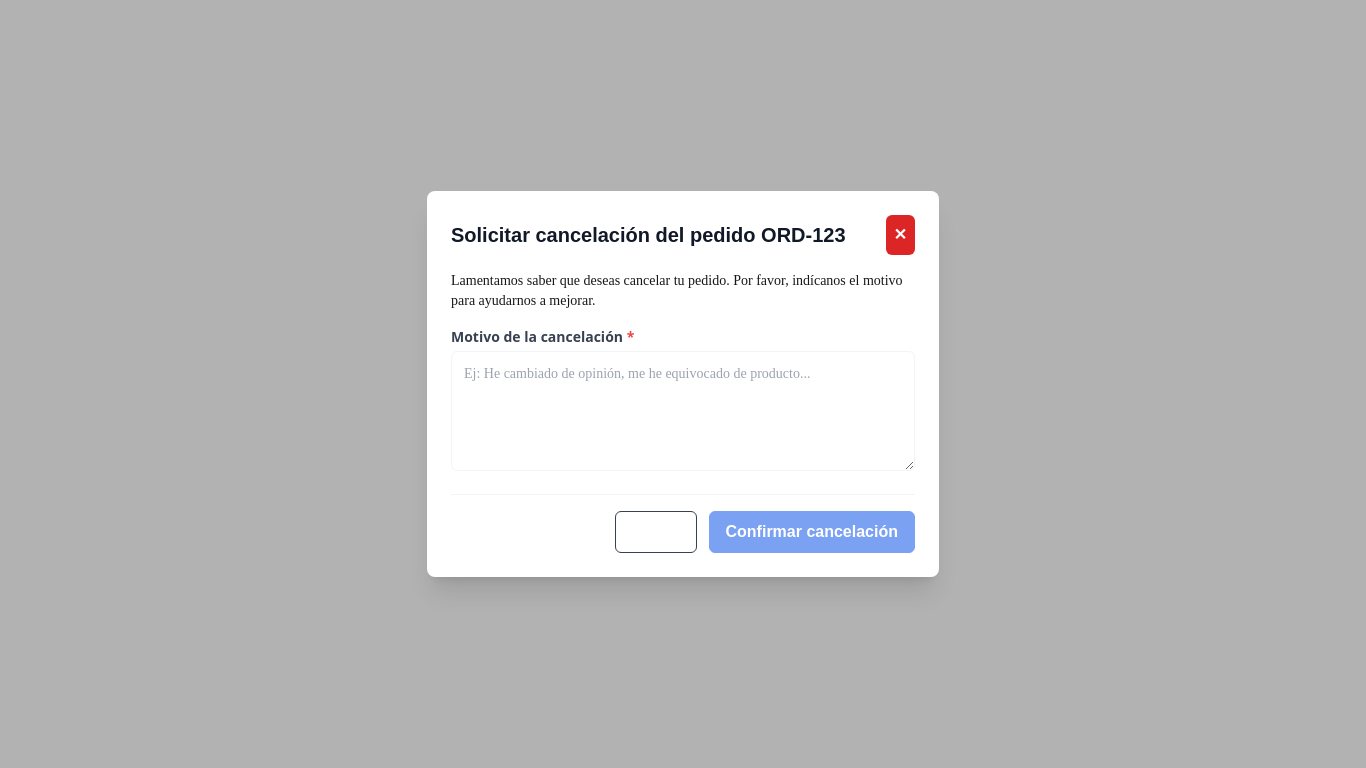
it: CancelOrderModal Component › displays error message when API fails
The image size is (1366, 768).
In the text box labelled "Motivo de la cancelación *": (683, 411) [451,351,915,471], type "Ya no lo quiero"
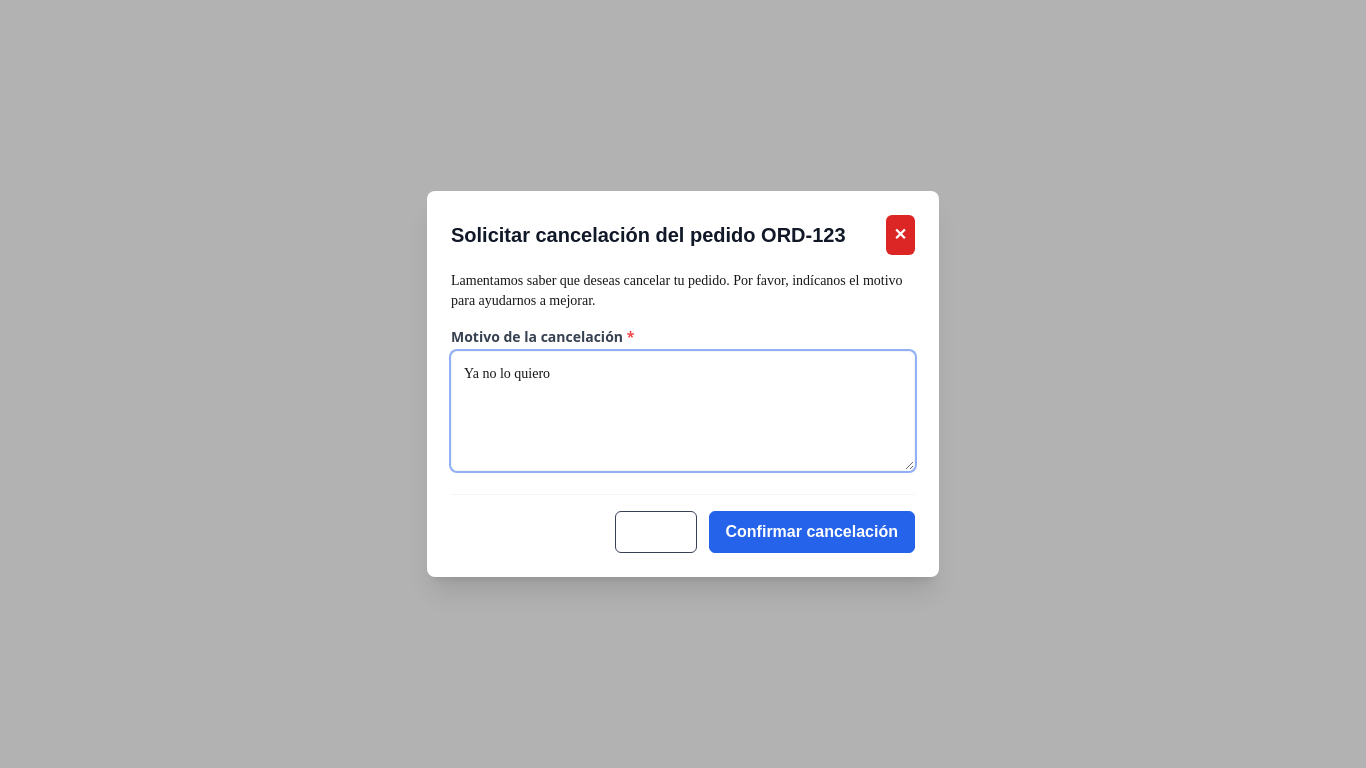
Click the button "Confirmar cancelación": (812, 532) [708,511,915,553]
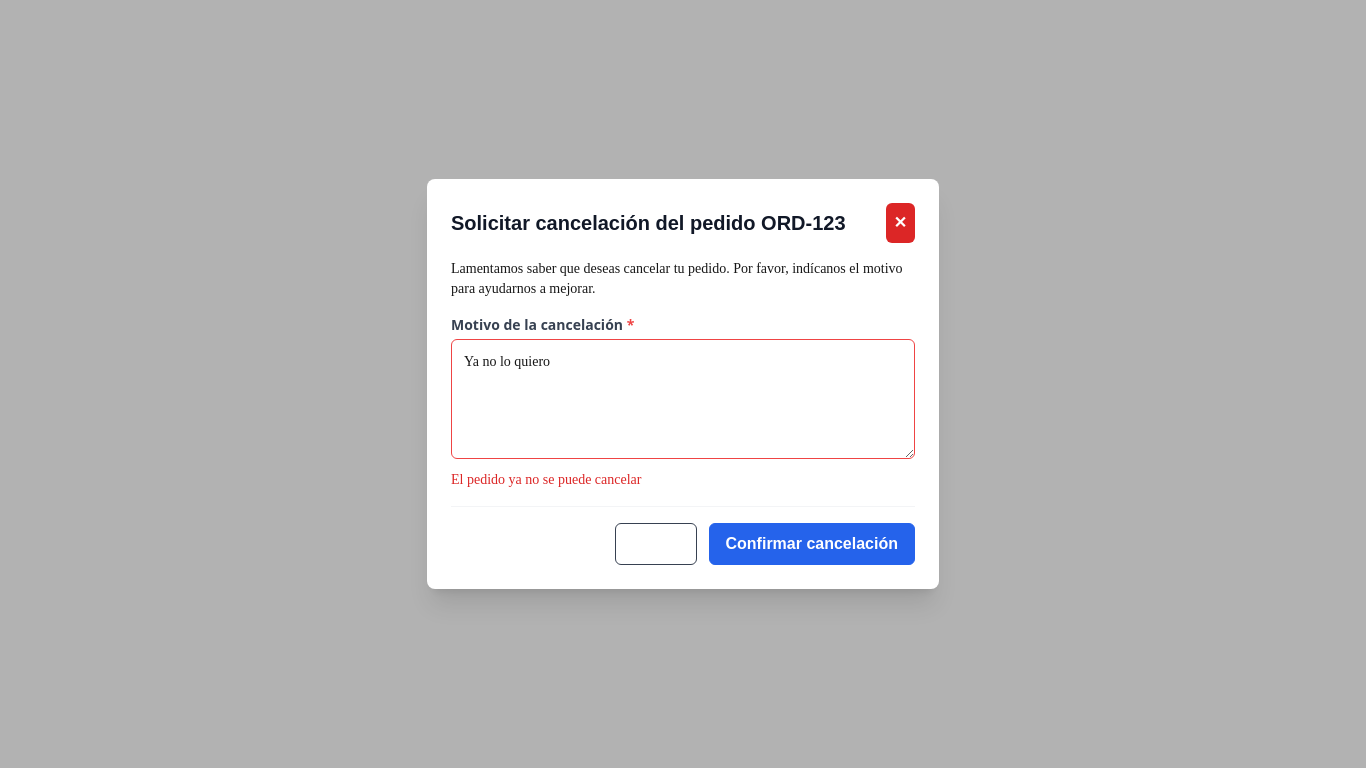
Result: the text "El pedido ya no se puede cancelar" is shown at [451,472,642,487]
